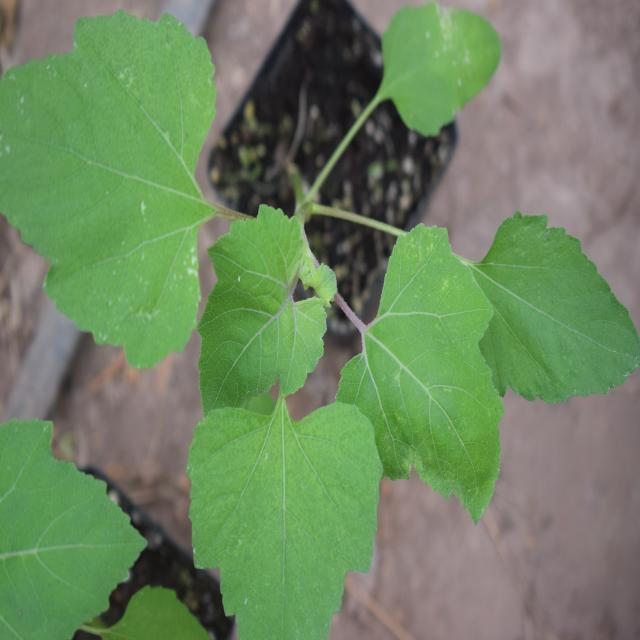cocklebur: (0, 13, 613, 610)
